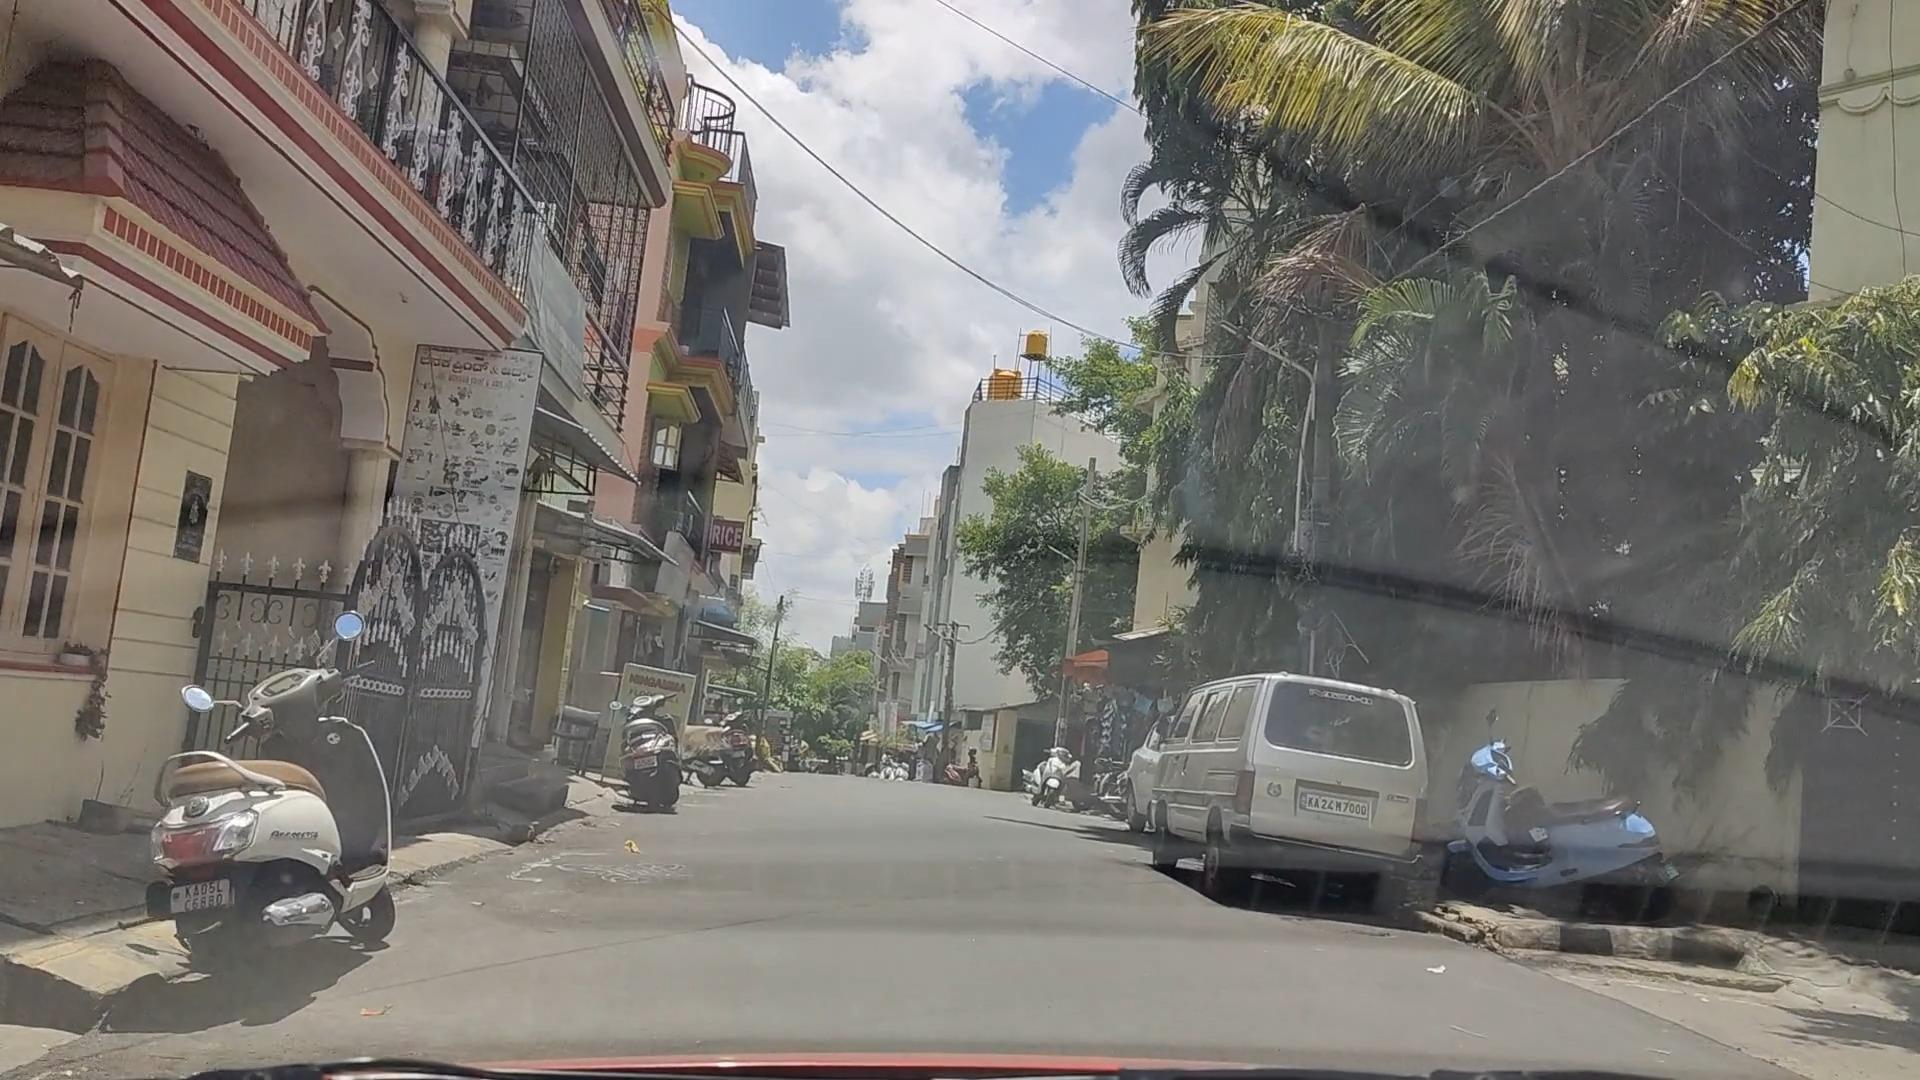LMV: (173, 661, 397, 981), (1122, 682, 1396, 903)
